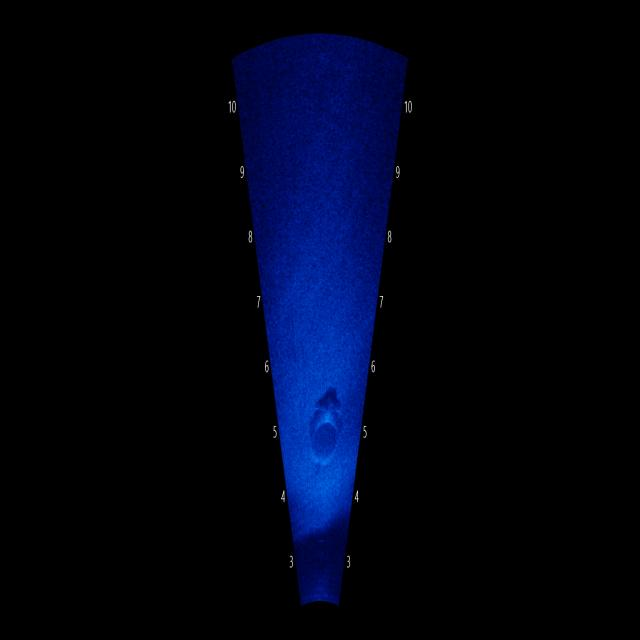circle: (295, 400, 353, 486)
